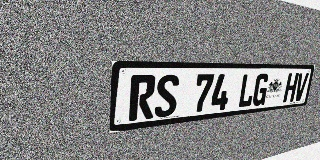4: (210, 74, 232, 111)
7: (191, 74, 214, 114)
G: (251, 73, 270, 106)
H: (283, 73, 299, 103)
L: (237, 74, 257, 108)
R: (129, 75, 156, 121)
S: (154, 75, 180, 118)
V: (293, 73, 309, 101)
